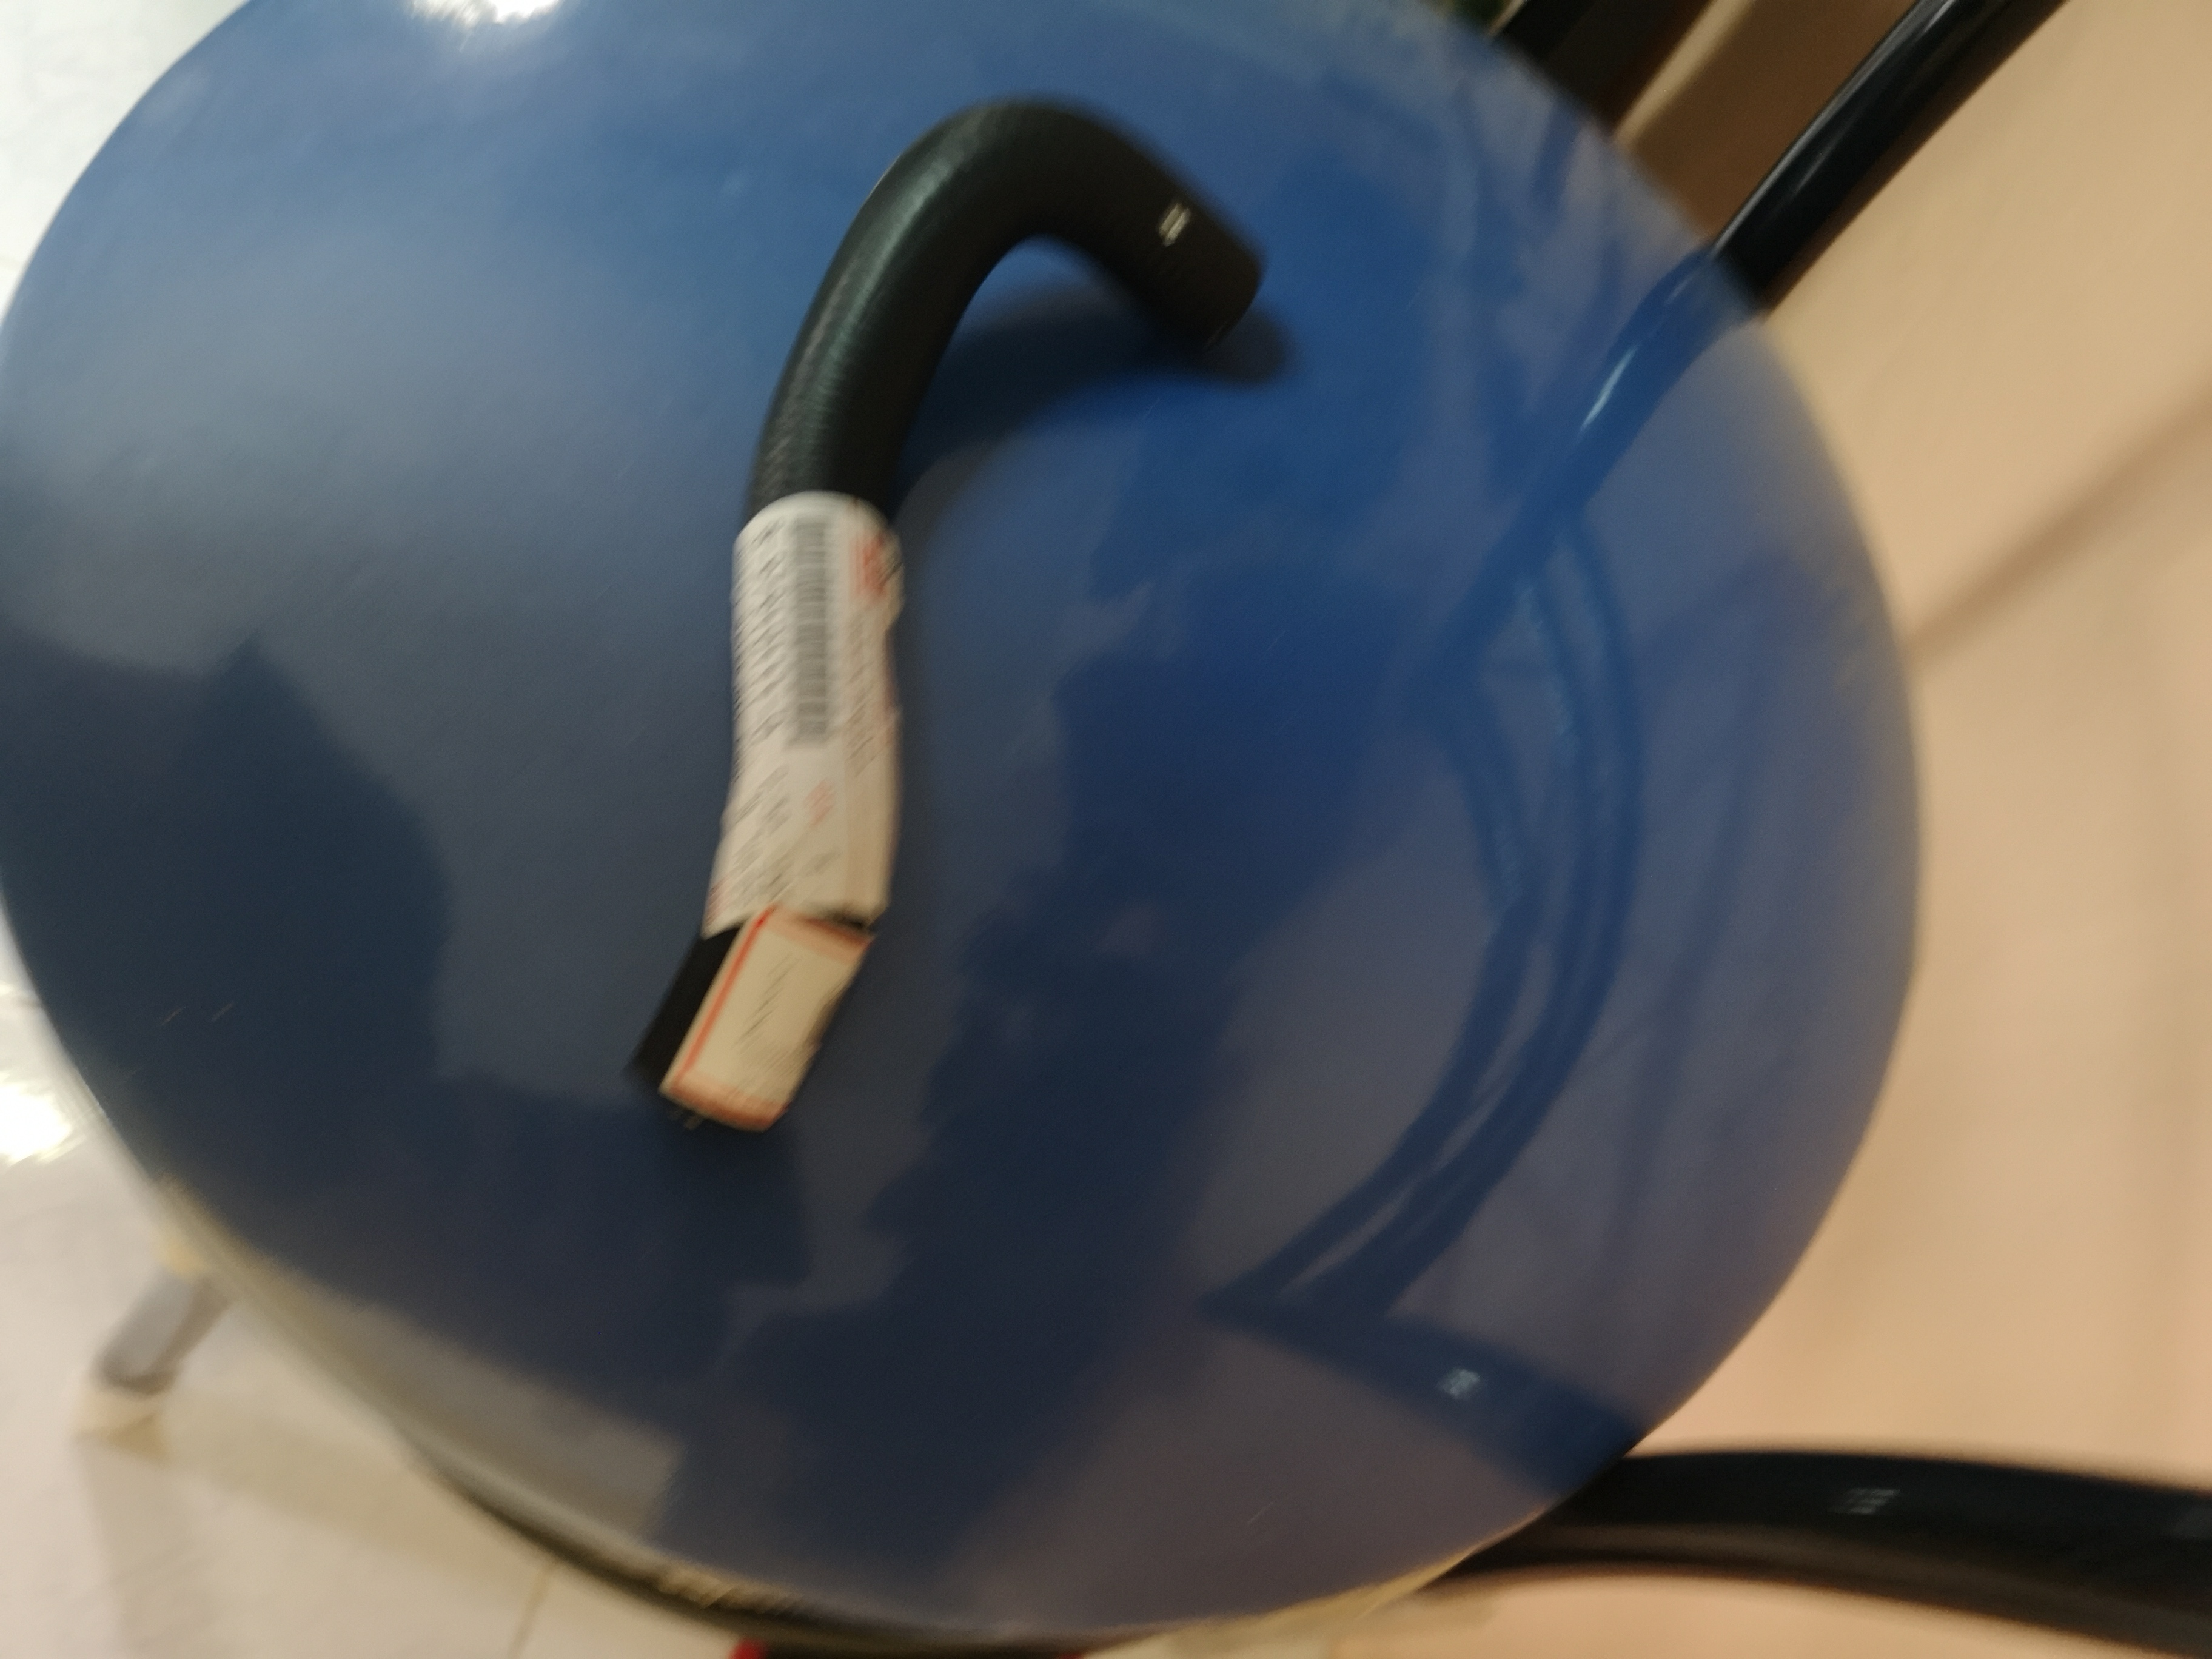ท่อยางน้ำมันเลี้ยงเทอร์โบ: (655, 91, 1313, 1176)
